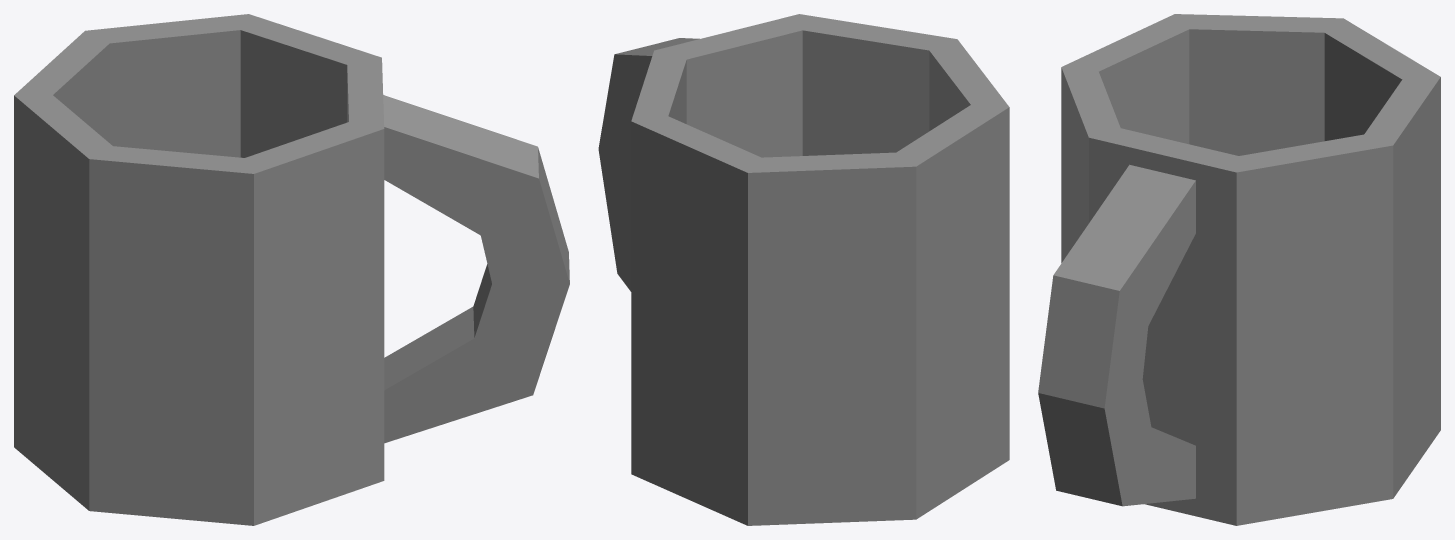
The model's file is Mug.fbx.
3 views of the same model, side by side, from view 1: azimuth 30°, elevation 25°; view 2: azimuth 150°, elevation 25°; view 3: azimuth 270°, elevation 25° (orthographic).
Visible parts, largest first — view 1: Mug; view 2: Mug; view 3: Mug.
Boxes of the visible parts, left/top/right/bottom form: Mug: left=14, top=14, right=569, bottom=525; Mug: left=598, top=14, right=1009, bottom=525; Mug: left=1038, top=14, right=1440, bottom=525.
Size of the model in its own units: 31.47 by 23.8 by 24.58.
